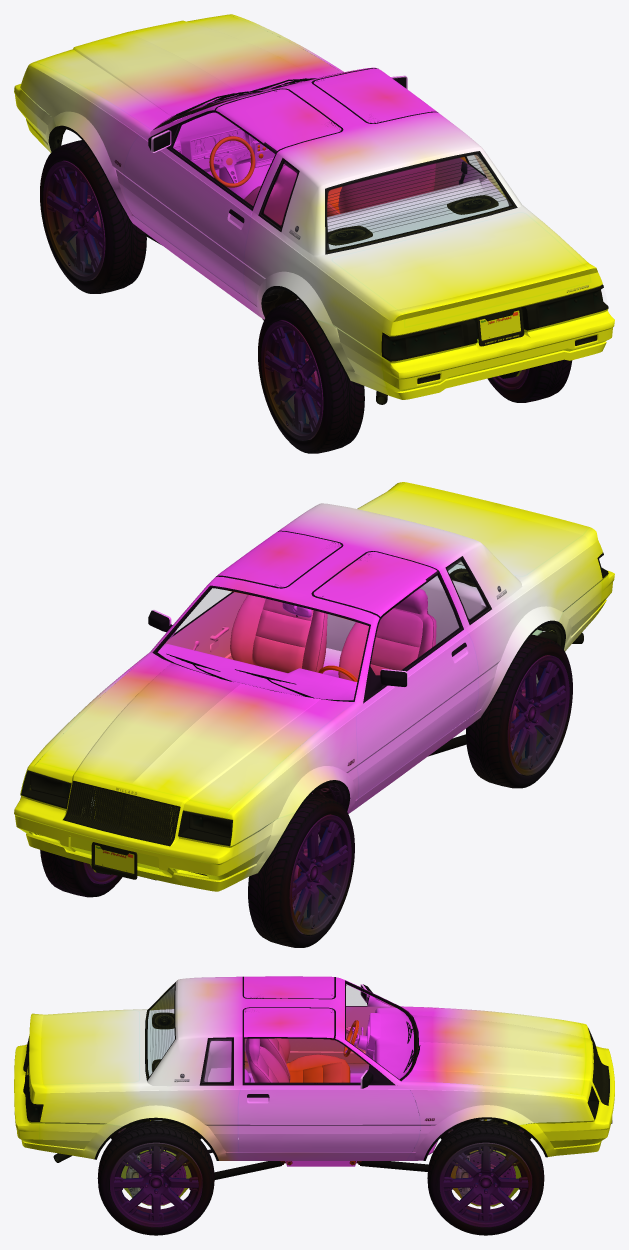
The model's file is faction3.glb.
3 views of the same model, one above another, from view 1: azimuth 30°, elevation 25°; view 2: azimuth 150°, elevation 25°; view 3: azimuth 270°, elevation 25° (orthographic). The views are drawn at different scales.
Visible parts, largest first — view 1: bodyshell, bonnet, boot, door_dside_f, wheel_lr, wheel_lf, windscreen_r, bumper_r, misc_m, extra_2, wing_lf, window_lf (+8 smaller); view 2: bodyshell, bonnet, misc_m, door_dside_f, wheel_lf, wheel_lr, bumper_f, boot, extra_2, wing_lf, window_lf, chassis (+8 smaller); view 3: bodyshell, door_pside_f, bonnet, wheel_rr, wheel_rf, boot, misc_m, wing_rf, window_rf, extra_2, bumper_r, bumper_f (+7 smaller).
Boxes of the visible parts, x1=… form: bodyshell: x1=35, y1=14, x2=608, y2=363; bonnet: x1=38, y1=15, x2=341, y2=130; boot: x1=332, y1=212, x2=590, y2=327; door_dside_f: x1=123, y1=125, x2=253, y2=299; wheel_lr: x1=258, y1=300, x2=364, y2=453; wheel_lf: x1=40, y1=140, x2=146, y2=293; windscreen_r: x1=326, y1=153, x2=513, y2=250; bumper_r: x1=314, y1=310, x2=614, y2=399; misc_m: x1=171, y1=112, x2=486, y2=230; extra_2: x1=215, y1=68, x2=436, y2=153; wing_lf: x1=20, y1=62, x2=151, y2=230; window_lf: x1=173, y1=113, x2=274, y2=206; bodyshell: x1=20, y1=482, x2=608, y2=846; bonnet: x1=38, y1=653, x2=354, y2=809; misc_m: x1=157, y1=576, x2=485, y2=700; door_dside_f: x1=356, y1=627, x2=478, y2=797; wheel_lf: x1=248, y1=794, x2=354, y2=947; wheel_lr: x1=466, y1=634, x2=572, y2=788; bumper_f: x1=14, y1=795, x2=297, y2=891; boot: x1=362, y1=482, x2=589, y2=576; extra_2: x1=217, y1=531, x2=438, y2=618; wing_lf: x1=225, y1=702, x2=362, y2=846; window_lf: x1=371, y1=576, x2=460, y2=674; chassis: x1=75, y1=558, x2=556, y2=880; bodyshell: x1=23, y1=976, x2=609, y2=1160; door_pside_f: x1=238, y1=1065, x2=420, y2=1152; bonnet: x1=401, y1=1007, x2=585, y2=1095; wheel_rr: x1=97, y1=1121, x2=214, y2=1235; wheel_rf: x1=427, y1=1121, x2=544, y2=1235; boot: x1=29, y1=1010, x2=139, y2=1093; misc_m: x1=202, y1=1006, x2=413, y2=1082; wing_rf: x1=396, y1=1081, x2=594, y2=1160; window_rf: x1=245, y1=1039, x2=368, y2=1082; extra_2: x1=244, y1=976, x2=334, y2=1039; bumper_r: x1=14, y1=1044, x2=127, y2=1159; bumper_f: x1=514, y1=1046, x2=614, y2=1157.
Size of the model in its own units: 1.9 by 1.78 by 5.11.
Materials: 19 (13 with a texture image).
